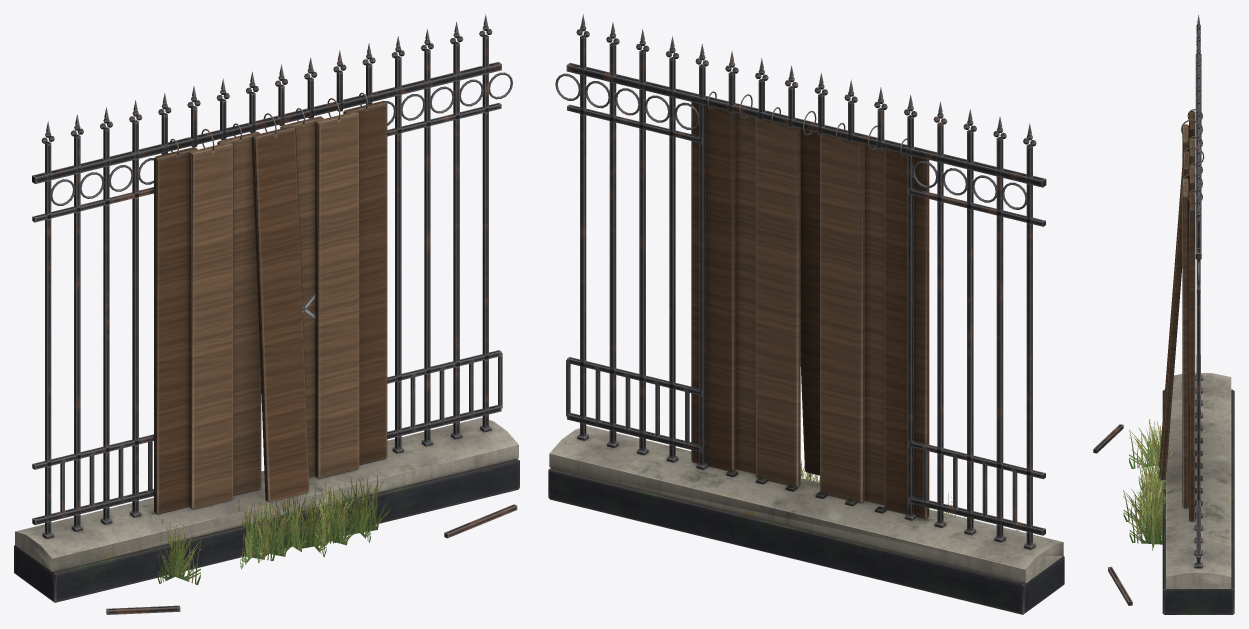
The model's file is SneakMissingBars.fbx.
3 renders of one model, left to right at view 1: azimuth 30°, elevation 25°; view 2: azimuth 150°, elevation 25°; view 3: azimuth 270°, elevation 25°, orthographic. The views are drawn at different scales.
Visible parts, largest first — view 1: SneakMissingBars_Main, SneakMissingBars_Board3, SneakMissingBars_Board1, SneakMissingBars_Board5, SneakMissingBars_Board0, SneakMissingBars_Board6, SneakMissingBars_Board2, SneakMissingBars_Leaves, SneakMissingBars_Board4; view 2: SneakMissingBars_Main, SneakMissingBars_Board4, SneakMissingBars_Board2, SneakMissingBars_Board6, SneakMissingBars_Board0, SneakMissingBars_Board5, SneakMissingBars_Board1, SneakMissingBars_Board3; view 3: SneakMissingBars_Main, SneakMissingBars_Leaves, SneakMissingBars_Board3, SneakMissingBars_Board5, SneakMissingBars_Board6, SneakMissingBars_Board1, SneakMissingBars_Board0, SneakMissingBars_Board2, SneakMissingBars_Board4.
Part boxes in pixels (x1,y1,x2,y2): SneakMissingBars_Main: (14, 14, 519, 614); SneakMissingBars_Board3: (252, 113, 309, 502); SneakMissingBars_Board1: (189, 129, 233, 509); SneakMissingBars_Board5: (315, 98, 359, 478); SneakMissingBars_Board0: (154, 139, 197, 514); SneakMissingBars_Board6: (343, 92, 387, 465); SneakMissingBars_Board2: (217, 123, 261, 495); SneakMissingBars_Leaves: (157, 474, 390, 585); SneakMissingBars_Board4: (280, 108, 323, 477); SneakMissingBars_Main: (548, 14, 1064, 614); SneakMissingBars_Board4: (755, 107, 800, 487); SneakMissingBars_Board2: (820, 122, 864, 503); SneakMissingBars_Board6: (691, 91, 736, 470); SneakMissingBars_Board0: (884, 138, 929, 518); SneakMissingBars_Board5: (736, 94, 755, 473); SneakMissingBars_Board1: (865, 125, 884, 505); SneakMissingBars_Board3: (800, 110, 819, 475); SneakMissingBars_Main: (1093, 15, 1234, 614); SneakMissingBars_Leaves: (1123, 418, 1179, 550); SneakMissingBars_Board3: (1159, 146, 1204, 480); SneakMissingBars_Board5: (1181, 173, 1202, 508); SneakMissingBars_Board6: (1187, 190, 1202, 521); SneakMissingBars_Board1: (1181, 119, 1202, 162); SneakMissingBars_Board0: (1187, 109, 1202, 137); SneakMissingBars_Board2: (1187, 136, 1202, 165); SneakMissingBars_Board4: (1187, 163, 1202, 191).
Size of the model in its own units: 821 by 761 by 239.
